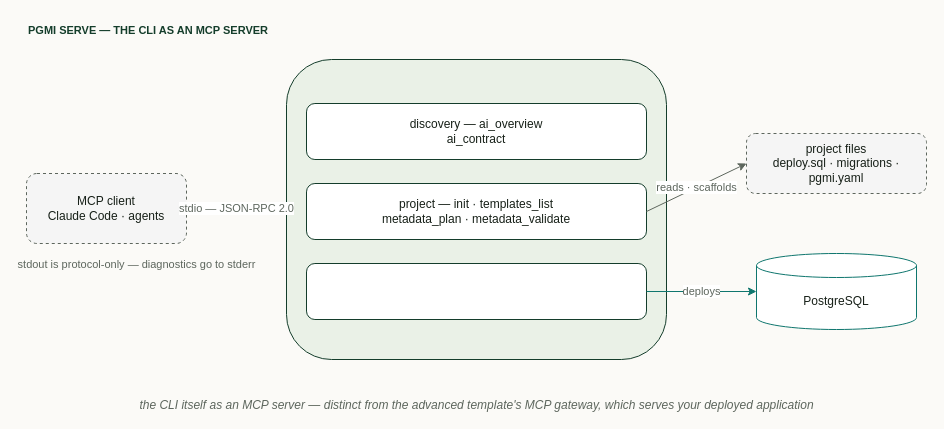
This 944x429 diagram has some shape labels left out. The box of each missing label's shape, as (x1, y1, x2, y2) in pixels:
deploy — one PostgreSQL session per call, notices streamed into the tool result: (306, 262, 646, 320)
pgmi serve — MCP tools, 1:1 with CLI commands · no deployment semantics added: (286, 58, 666, 360)
